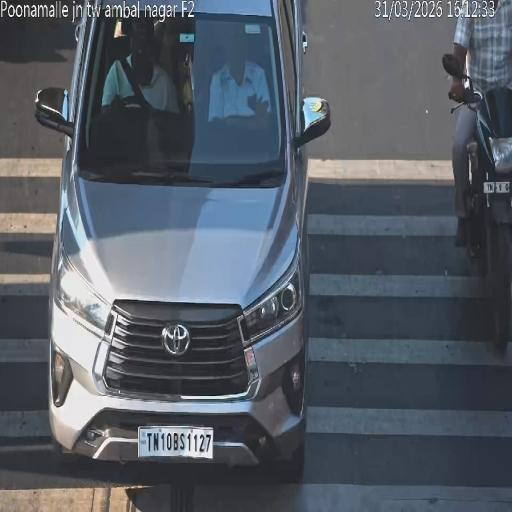person_with_seatbelt: (118, 50, 151, 113)
person_without_seatbelt: (216, 67, 264, 119)
